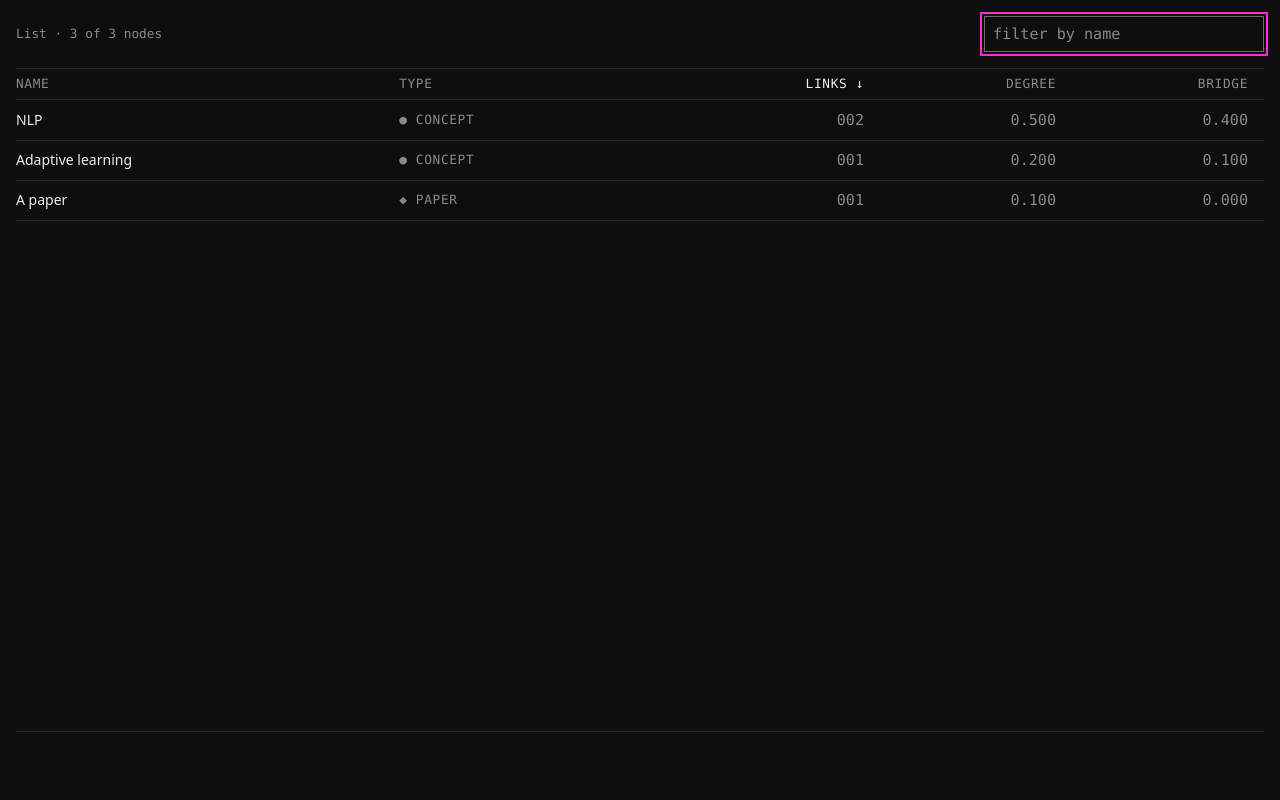
NodeList › sorts by name and filters
This screenshot has width=1280, height=800.
Click the button "Name". click: (33, 84)
box: [16,69,399,99]
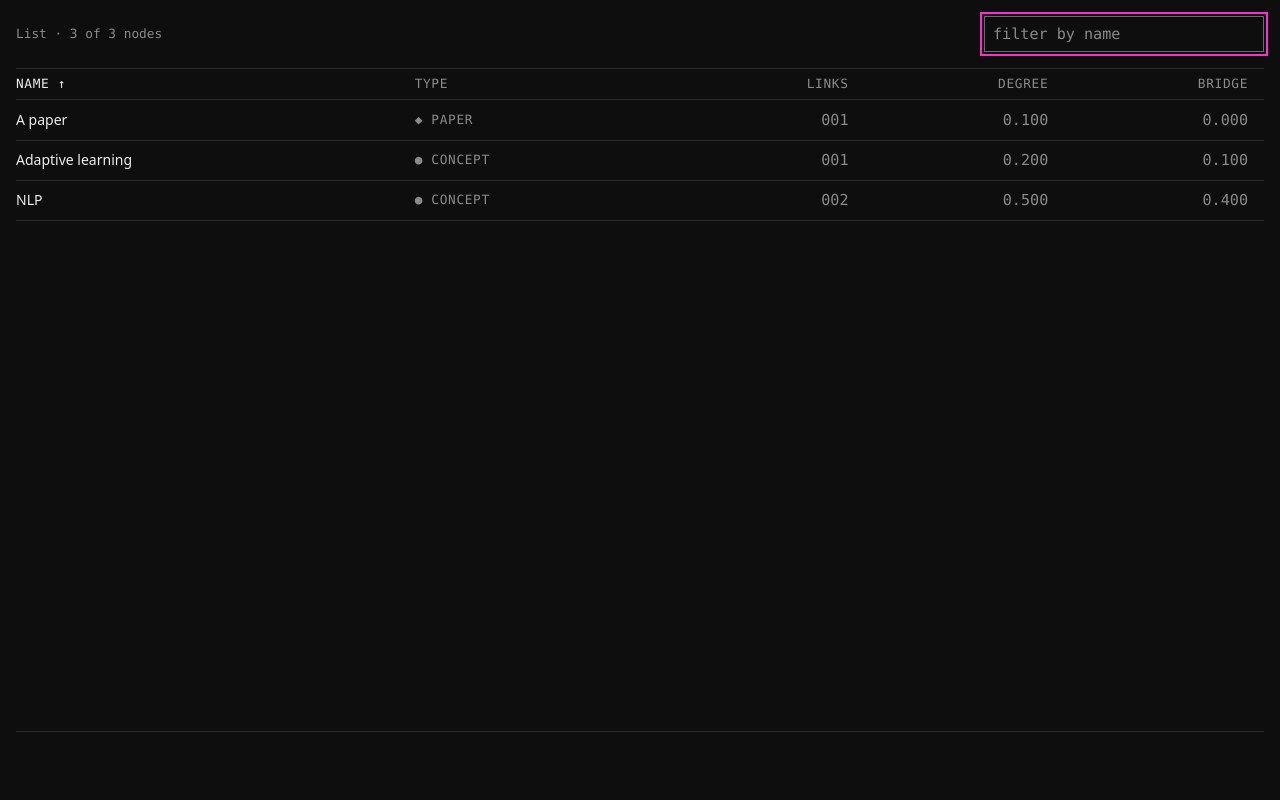
expect the column heading "Name ↑" has attribute aria-sort="ascending": met, box [16,69,415,100]
Type "pap" into the field labelled "List · 3 of 3 nodes". click: (1124, 34)
box: [984,16,1264,52]
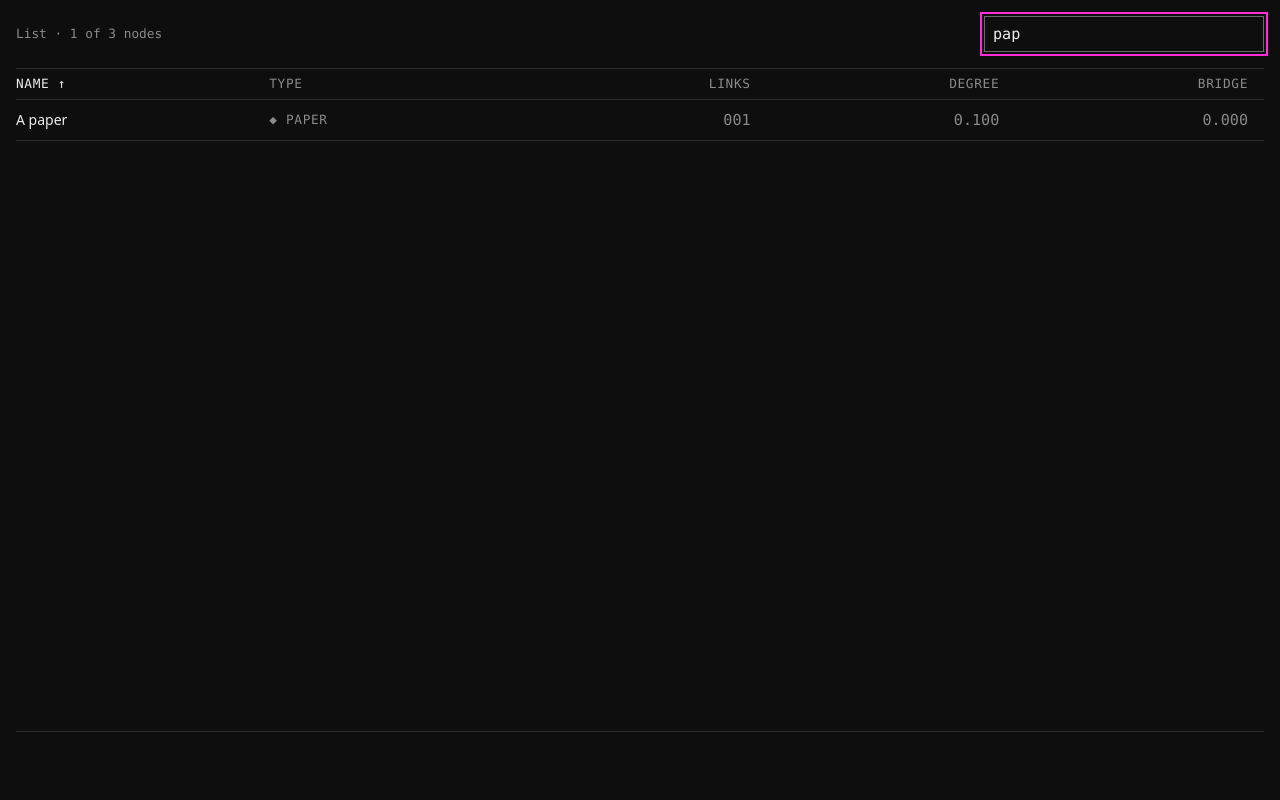
expect the number of rows is 2: met, box [16,69,1264,100]; [16,100,1264,140]
